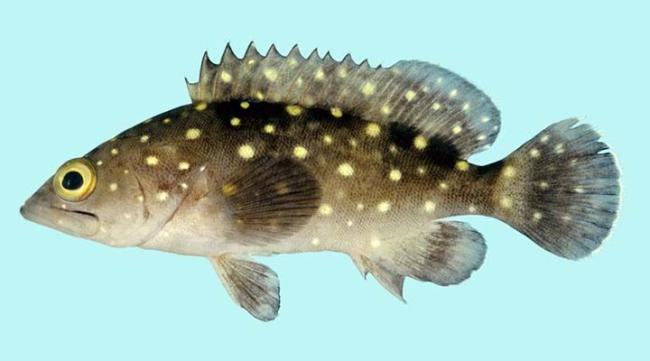fish: (20, 39, 622, 322)
